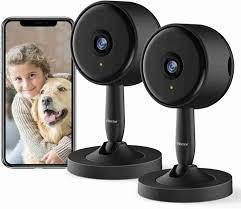maru: (72, 5, 164, 91), (144, 27, 241, 102)
